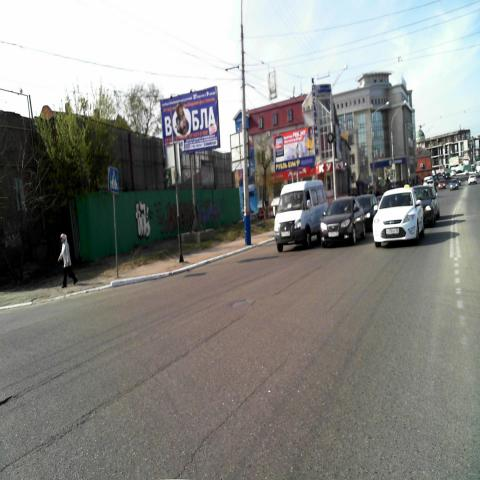5_19_1: (108, 166, 120, 194)
